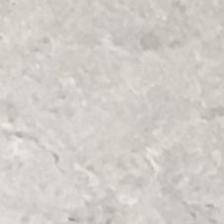Non_Crack: (28, 25, 192, 172)
